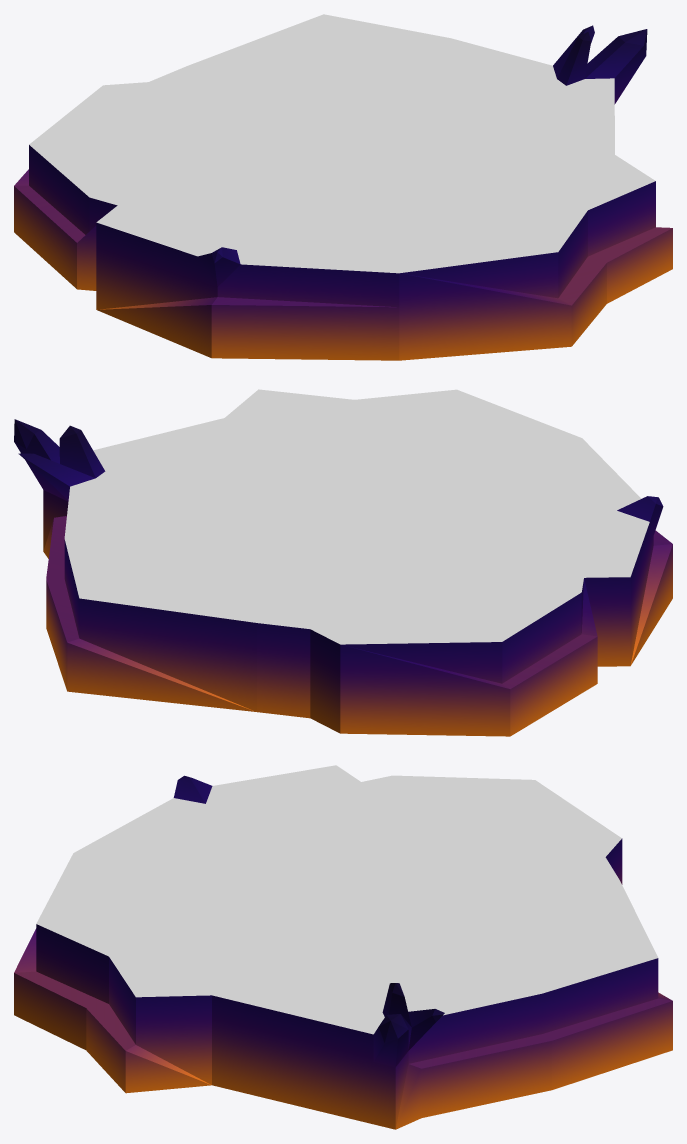
The model's file is MOD_Platform_Laag.fbx.
The picture shows the model from 3 angles, top to bottom: view 1: azimuth 30°, elevation 25°; view 2: azimuth 150°, elevation 25°; view 3: azimuth 270°, elevation 25°; orthographic projection. The views are drawn at different scales.
Visible parts, largest first — view 1: MOD_Platform_Laag; view 2: MOD_Platform_Laag; view 3: MOD_Platform_Laag.
Boxes of the visible parts, bbox=[...] form: MOD_Platform_Laag: bbox=[14, 14, 672, 360]; MOD_Platform_Laag: bbox=[14, 389, 672, 736]; MOD_Platform_Laag: bbox=[14, 765, 672, 1129].
Bounding box in the file's own units: 7.34 × 1.58 × 7.05.
